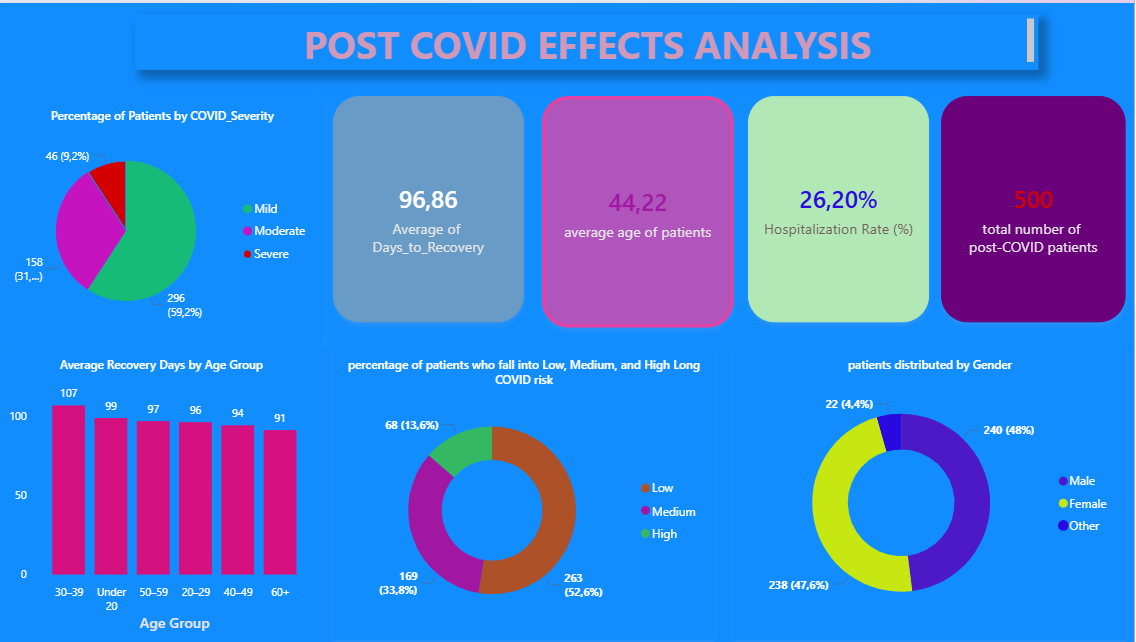

This screenshot's page, from the dashboard's own definition file:
{"tool":"powerbi","page":{"name":"Page 1","canvas":[1280,720],"ordinal":0},"visuals":[{"type":"card","fields":{"Values":["CountNonNull(post_covid_health_effects_dataset.Age)"]},"box":[1062.8,104.7,208.2,254.7],"z":0},{"type":"card","fields":{"Values":["Avg(post_covid_health_effects_dataset.Age)"]},"box":[612.8,104.7,215.9,261.2],"z":1000},{"type":"donutChart","fields":{"Category":["post_covid_health_effects_dataset.Gender"],"Y":["CountNonNull(post_covid_health_effects_dataset.Gender)"]},"box":[829.3,386.5,441.7,331.3],"z":2000},{"type":"pieChart","fields":{"Category":["post_covid_health_effects_dataset.COVID_Severity"],"Y":["CountNonNull(post_covid_health_effects_dataset.COVID_Severity)"]},"box":[0,104.7,368.5,281.9],"z":3000},{"type":"card","fields":{"Values":["post_covid_health_effects_dataset.Hospitalization Rate (%)"]},"box":[845.6,104.7,204.3,254.7],"z":4000},{"type":"card","fields":{"Values":["Avg(post_covid_health_effects_dataset.Days_to_Recovery)"]},"box":[377.5,104.7,214.6,254.7],"z":5000},{"type":"columnChart","fields":{"Category":["post_covid_health_effects_dataset.Age Group"],"Y":["post_covid_health_effects_dataset.Average Recovery Days"]},"box":[0,386.5,368.5,333.5],"z":6000},{"type":"textbox","box":[153.9,12.9,1017.5,63.4],"z":7000},{"type":"donutChart","title":"percentage of patients who fall into Low, Medium, and High Long COVID risk","fields":{"Category":["post_covid_health_effects_dataset.Long_COVID_Risk"],"Y":["CountNonNull(post_covid_health_effects_dataset.Long_COVID_Risk)"]},"box":[377.5,386.5,430.4,331.3],"z":8000}]}

Visuals, with their boxes in screenshot pixels (x1, y1, x2, y2), scaled from the page's 1280x720 canvas onto the 1136x642 screenshot:
card - CountNonNull(post_covid_health_effects_dataset.Age): 943:93:1128:320
card - Avg(post_covid_health_effects_dataset.Age): 544:93:735:326
donutChart - post_covid_health_effects_dataset.Gender x CountNonNull(post_covid_health_effects_dataset.Gender): 736:345:1128:640
pieChart - post_covid_health_effects_dataset.COVID_Severity x CountNonNull(post_covid_health_effects_dataset.COVID_Severity): 0:93:327:345
card - post_covid_health_effects_dataset.Hospitalization Rate (%): 750:93:932:320
card - Avg(post_covid_health_effects_dataset.Days_to_Recovery): 335:93:525:320
columnChart - post_covid_health_effects_dataset.Age Group x post_covid_health_effects_dataset.Average Recovery Days: 0:345:327:641
textbox: 137:12:1040:68
"percentage of patients who fall into Low, Medium, and High Long COVID risk" donutChart: 335:345:717:640
